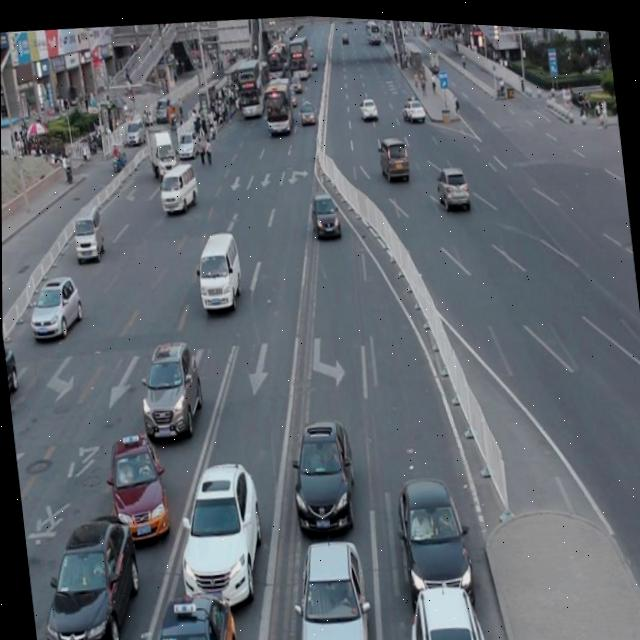car: (31, 501, 147, 640), (168, 448, 268, 608), (391, 458, 472, 597), (283, 520, 371, 640), (283, 405, 359, 531), (102, 423, 172, 543), (132, 328, 206, 440), (126, 575, 238, 640), (399, 565, 494, 640), (26, 271, 85, 343), (434, 157, 470, 210), (308, 187, 340, 237), (2, 340, 21, 402)
truck: (192, 226, 244, 309), (157, 158, 200, 214), (69, 199, 105, 262)
